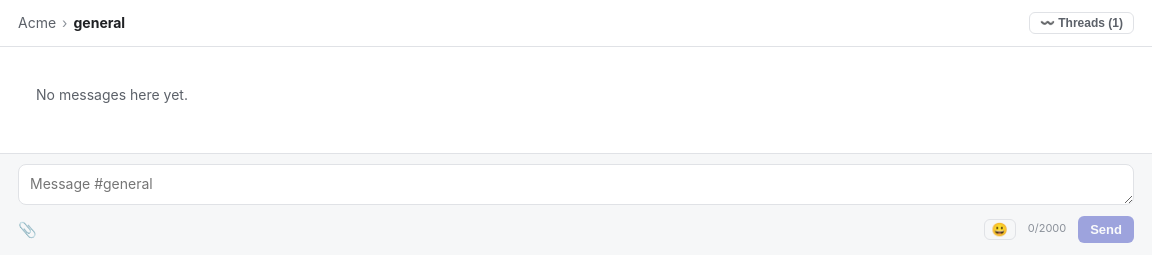
Test: threads panel — FR-3 pin › marks an already-pinned thread row
The image size is (1152, 272).
Click the button "〰️ Threads (1)".
click(1082, 23)  # box [1029, 12, 1134, 34]
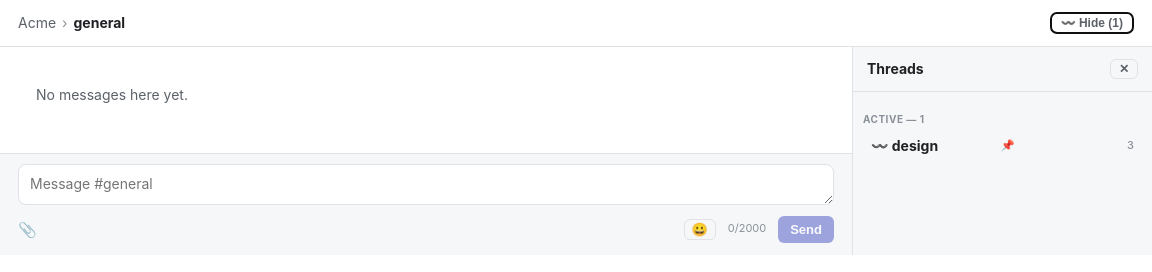
Check: the button titled "Unpin thread" is shown, box [999, 140, 1016, 151]
